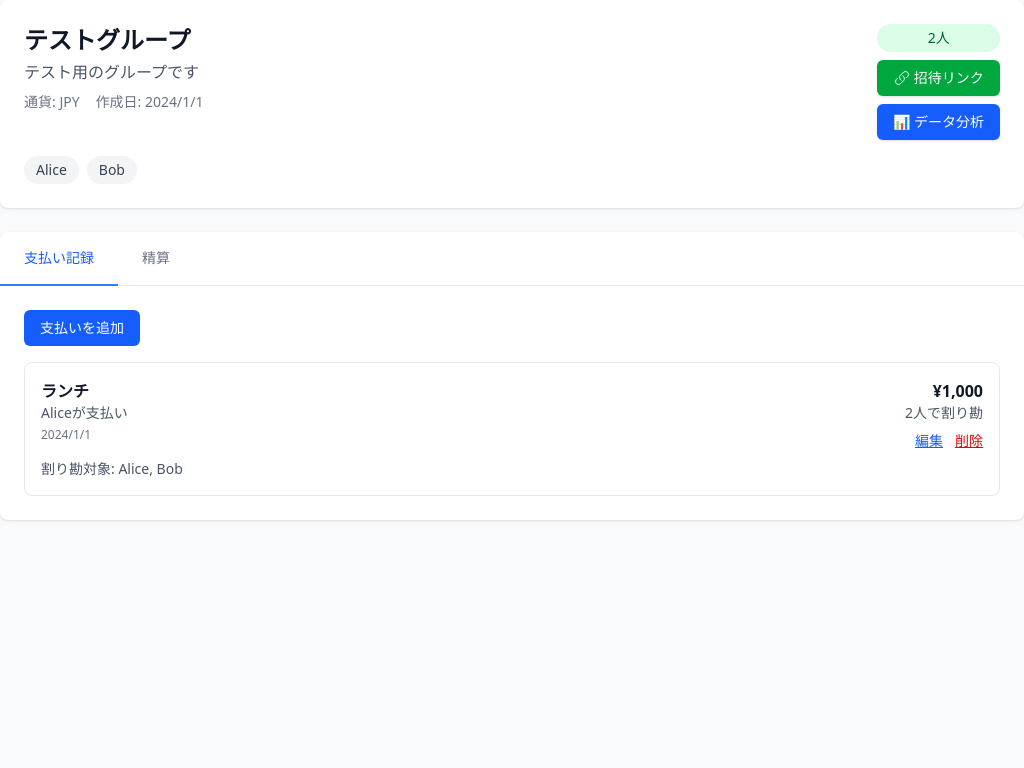
Test case: GroupPage › 支払い削除失敗時にエラーアラートを表示する
Expected: the heading "ランチ" is shown, [41,380,89,402]
Note: Click the delete button
Step 1. Click the button "削除" → click(969, 441), box [955,431,983,451]
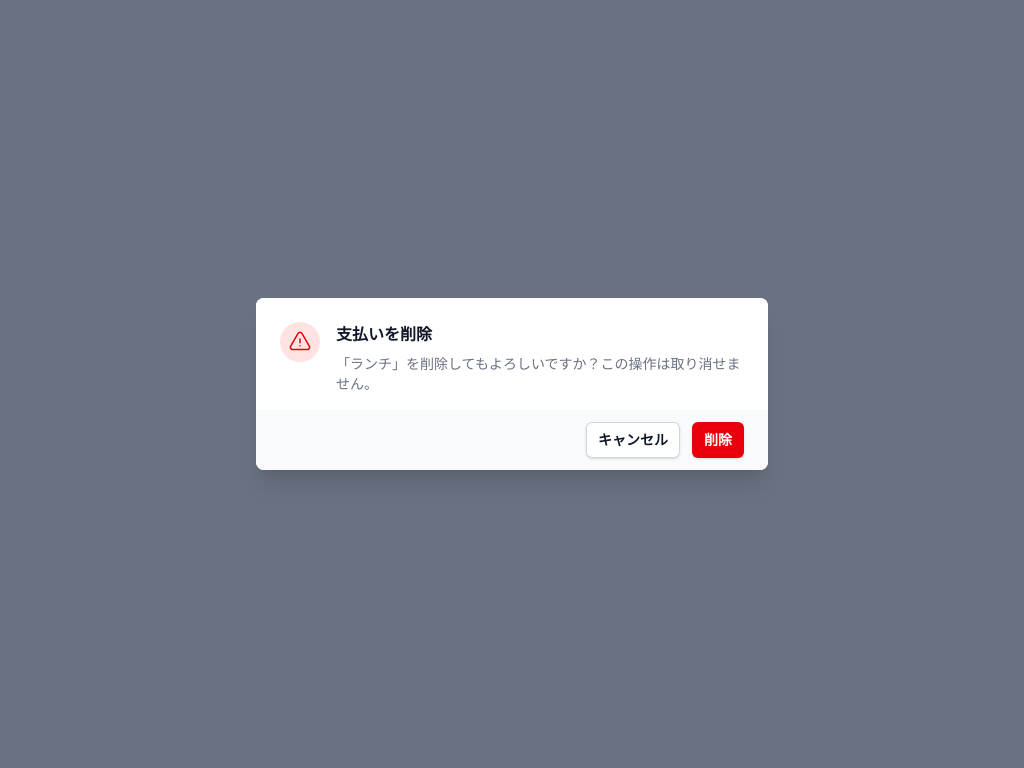
Result: the heading "支払いを削除" is shown at [336,323,432,345]
Result: the text "「ランチ」を削除してもよろしいですか？この操作は取り消せません。" is shown at [336,354,744,394]
Note: Click the confirm button in the modal
Step 2. Click the button "削除" → click(718, 440), box [692,422,744,458]
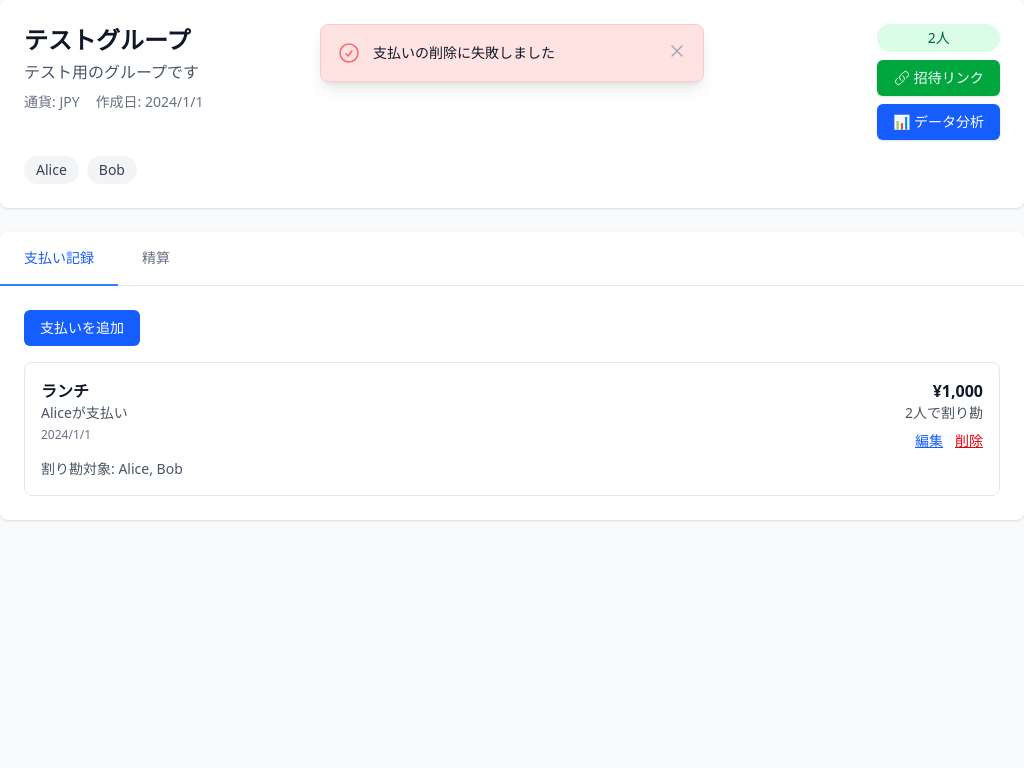
Expected: the heading "ランチ" is shown, [41,380,89,402]
Result: the text "支払いの削除に失敗しました" is shown at [373,43,555,62]
